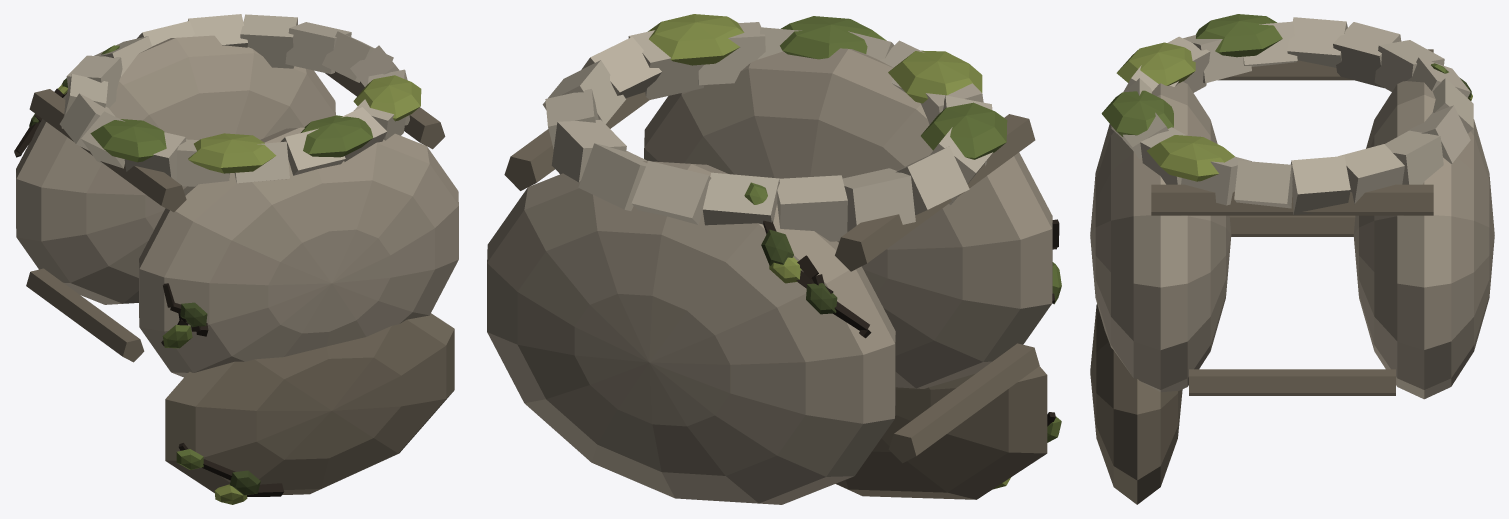
File: petrified_cuirass.glb
The picture shows the model from 3 angles, left to right: view 1: azimuth 30°, elevation 25°; view 2: azimuth 150°, elevation 25°; view 3: azimuth 270°, elevation 25°; orthographic projection. The views are drawn at different scales.
Parts seen in each view (by area): view 1: petrified_cuirass; view 2: petrified_cuirass; view 3: petrified_cuirass.
Boxes of the visible parts, x1=… form: petrified_cuirass: x1=14, y1=14, x2=458, y2=504; petrified_cuirass: x1=487, y1=14, x2=1061, y2=504; petrified_cuirass: x1=1090, y1=14, x2=1494, y2=504.
Bounding box in the file's own units: 0.8571 × 0.915 × 0.86.
